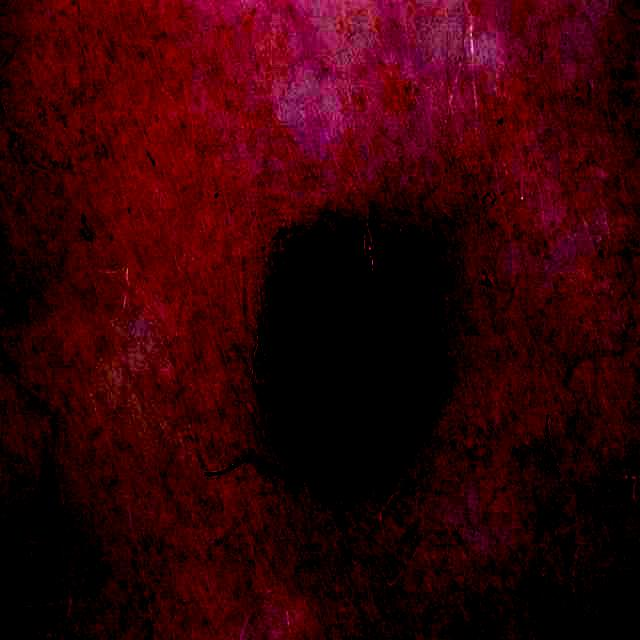VASC: (265, 220, 453, 497)
